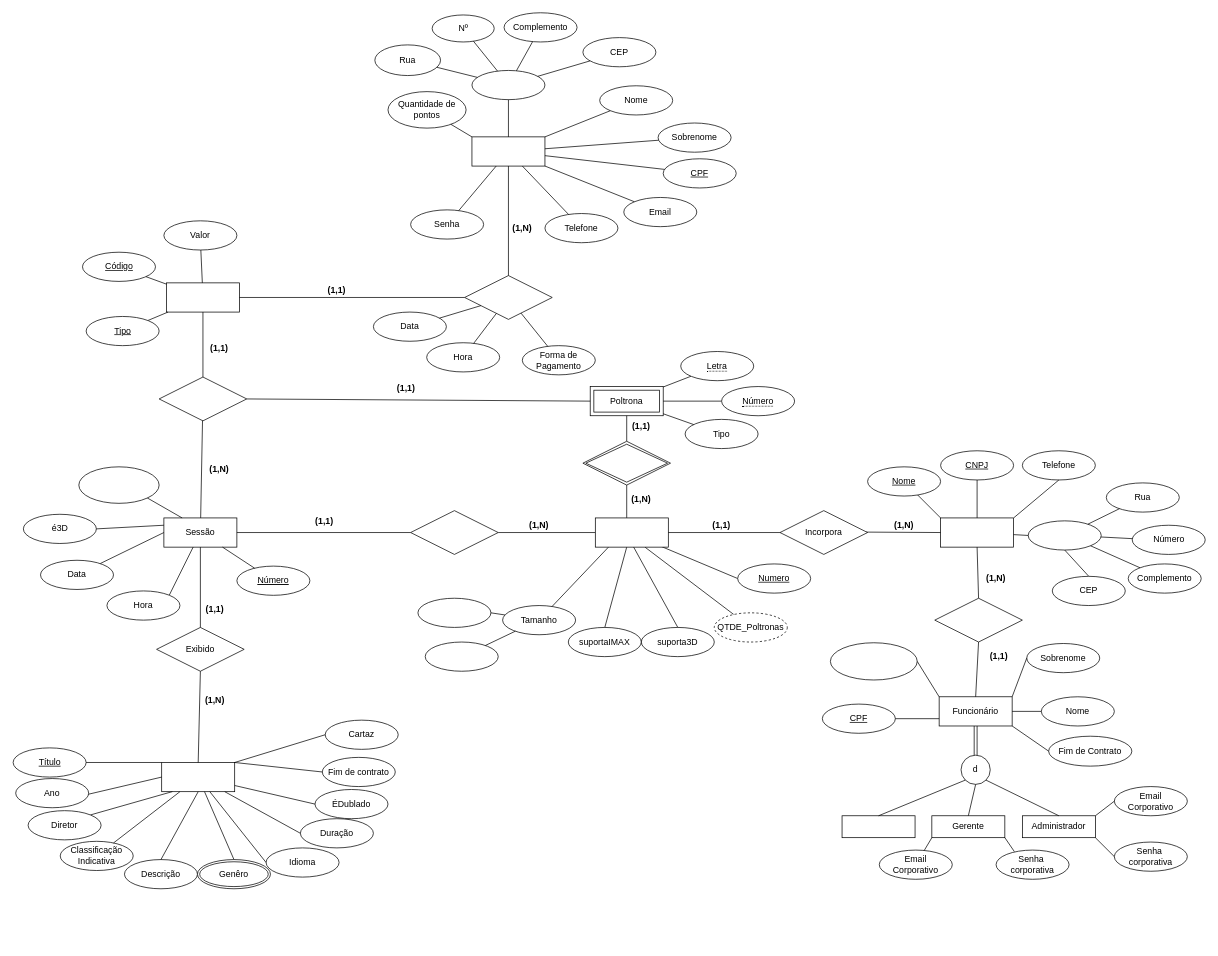
Some shapes in this 1218 by 956 pixel diagram are drawn without their labels. Here are the shapes that lost their labels. From the top down, the box of each, then its label:
(471, 70, 545, 100): Endereço
(471, 136, 545, 166): Cliente
(166, 282, 239, 312): Ingresso
(464, 275, 552, 319): Compra
(158, 376, 247, 421): Pertence
(582, 441, 671, 485): Possui
(78, 466, 159, 503): Legendado ou Dublado
(410, 510, 498, 554): Passada em
(595, 517, 668, 547): Sala
(940, 517, 1014, 547): Cinema
(1027, 520, 1101, 550): Endereco
(417, 598, 491, 627): Profundidade
(934, 598, 1022, 642): Trabalha em
(424, 641, 498, 671): Largura
(830, 642, 917, 680): Data do início de contrato
(161, 762, 235, 792): Filme
(841, 815, 915, 838): Comum
